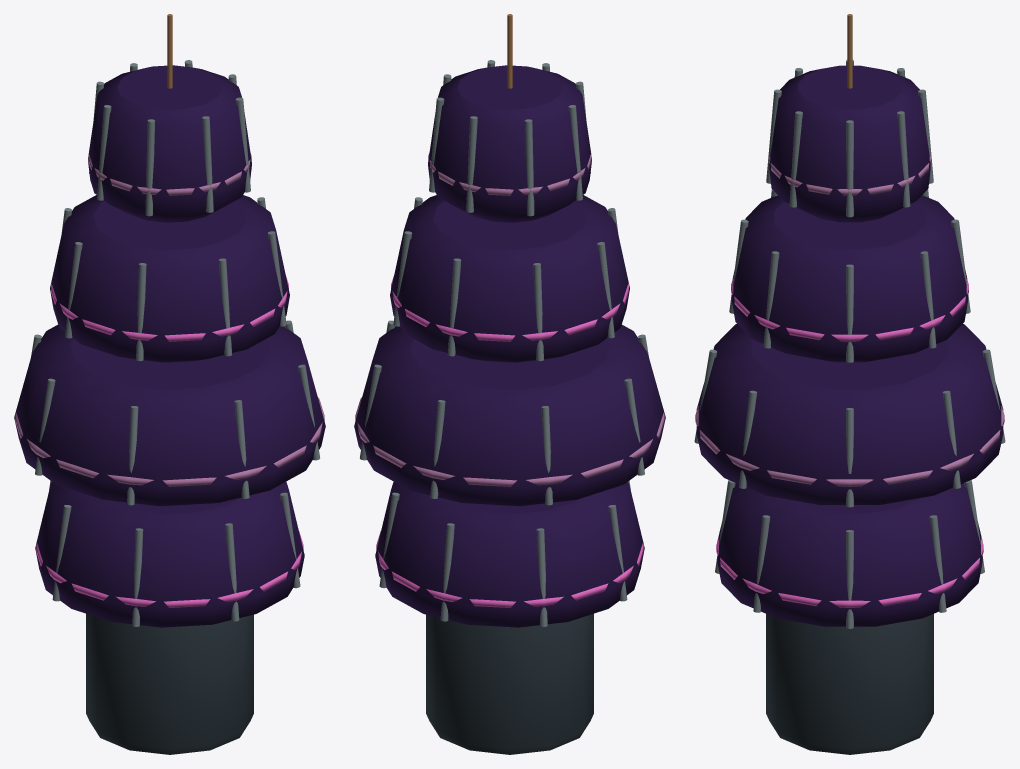
The model's file is vespera_lantern_hotel.glb.
3 renders of one model, left to right at view 1: azimuth 30°, elevation 25°; view 2: azimuth 150°, elevation 25°; view 3: azimuth 270°, elevation 25°, orthographic.
Visible parts, largest first — view 1: vespera_lantern_hotel; view 2: vespera_lantern_hotel; view 3: vespera_lantern_hotel.
Boxes of the visible parts, x1,y1,x2,y2 form: vespera_lantern_hotel: (14,14,325,754); vespera_lantern_hotel: (354,14,665,754); vespera_lantern_hotel: (694,14,1005,754).
Bounding box in the file's own units: 15.16 × 38 × 15.18.
